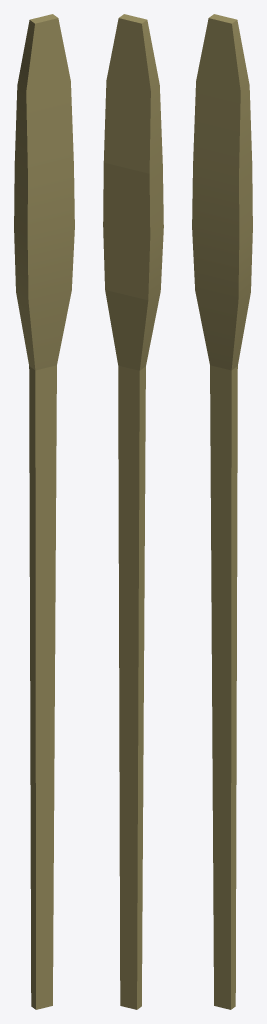
The model's file is Virgo_Wheat.fbx.
The picture shows the model from 3 angles, left to right: view 1: azimuth 30°, elevation 25°; view 2: azimuth 150°, elevation 25°; view 3: azimuth 330°, elevation 25°; orthographic projection.
Visible parts, largest first — view 1: Wheat; view 2: Wheat; view 3: Wheat.
Boxes of the visible parts, x1=… form: Wheat: x1=14, y1=14, x2=74, y2=1009; Wheat: x1=103, y1=14, x2=163, y2=1009; Wheat: x1=192, y1=14, x2=252, y2=1009.
Size of the model in its own units: 0.0449 by 0.8978 by 0.0225.
